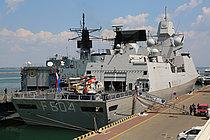MIL_Ship: (13, 8, 204, 119)
